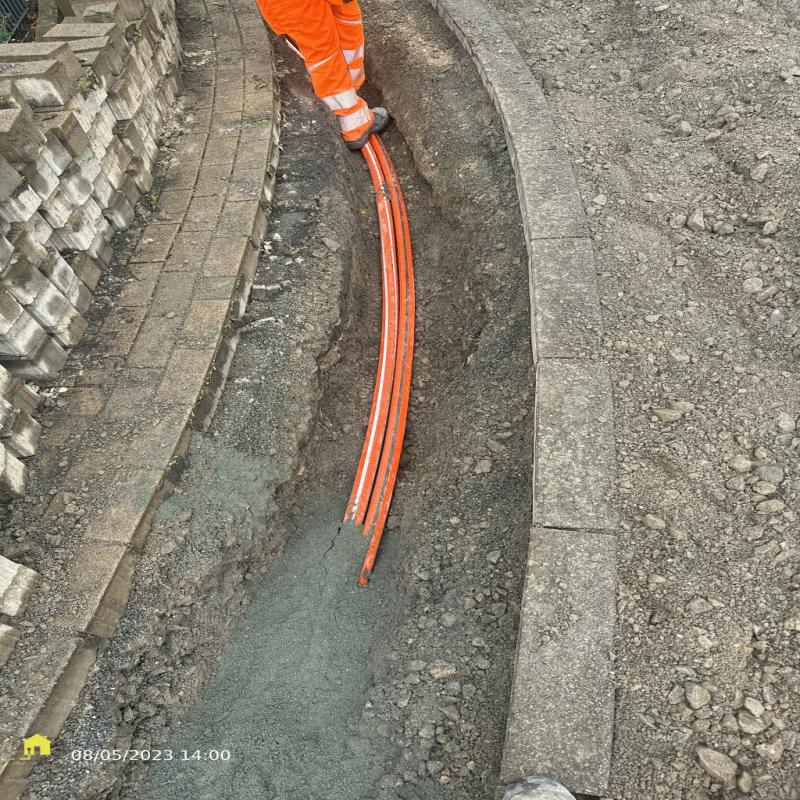Orang-Speednetrohrchen: (340, 147, 419, 569)
